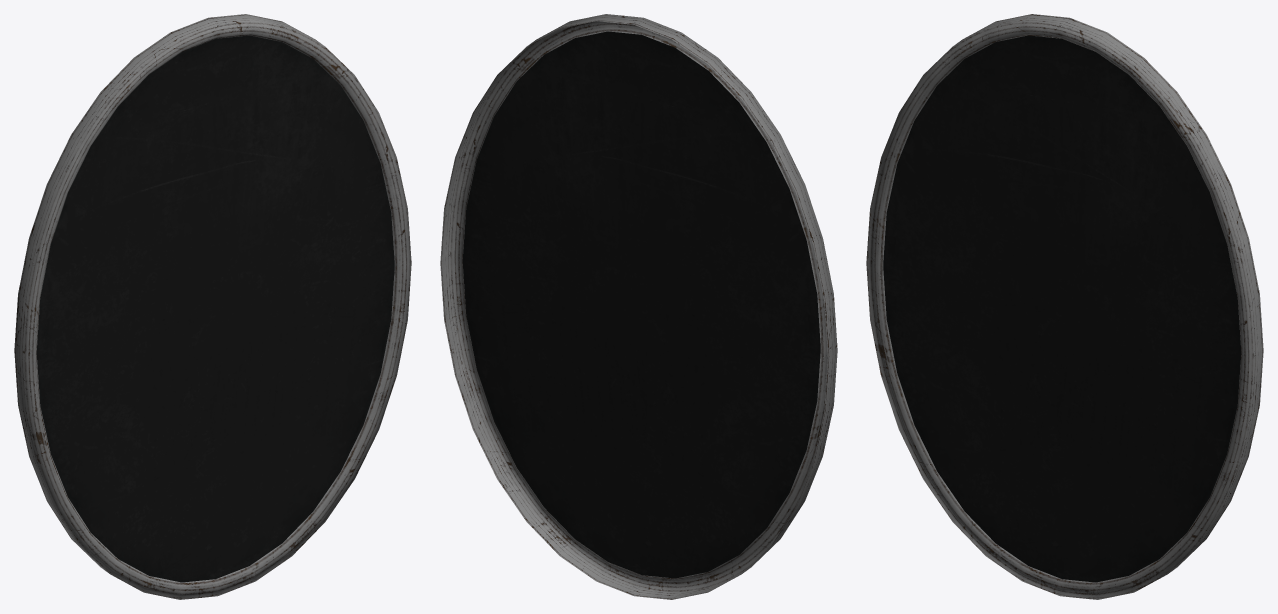
File: Mirror2_Bathroom.fbx
3 renders of one model, left to right at view 1: azimuth 30°, elevation 25°; view 2: azimuth 150°, elevation 25°; view 3: azimuth 330°, elevation 25°, orthographic.
Parts seen in each view (by area): view 1: polySurface279; view 2: polySurface279; view 3: polySurface279.
Boxes of the visible parts, x1,y1,x2,y2 form: polySurface279: (14, 14, 411, 599); polySurface279: (440, 14, 837, 599); polySurface279: (866, 14, 1263, 599).
Bounding box in the file's own units: 81.51 × 115 × 3.55.
